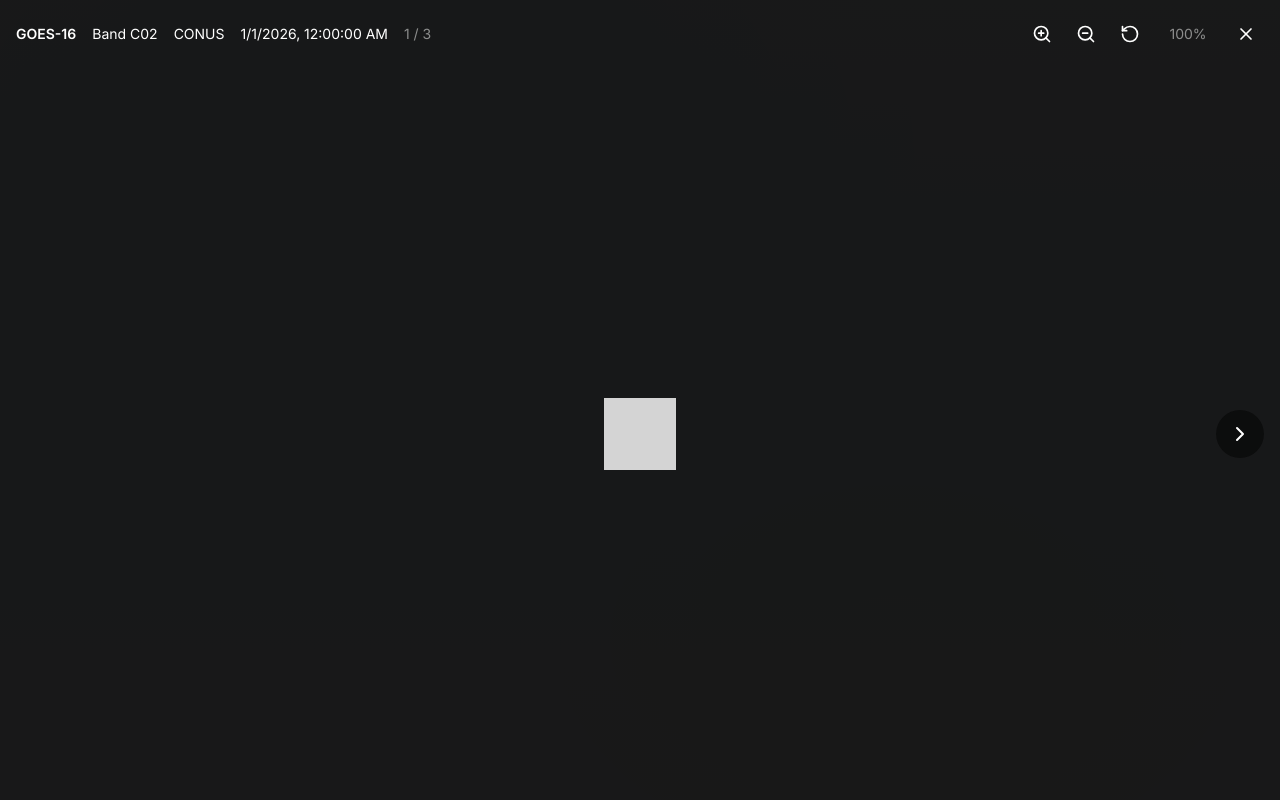
Test: ImageViewer extended › zooms out when zoom out button clicked
The width and height of the screenshot is (1280, 800).
Expected: the text "100%" is shown, [1169, 25, 1206, 42]
Click the button titled "Zoom out".
click(1086, 34)  # box [1068, 16, 1104, 52]
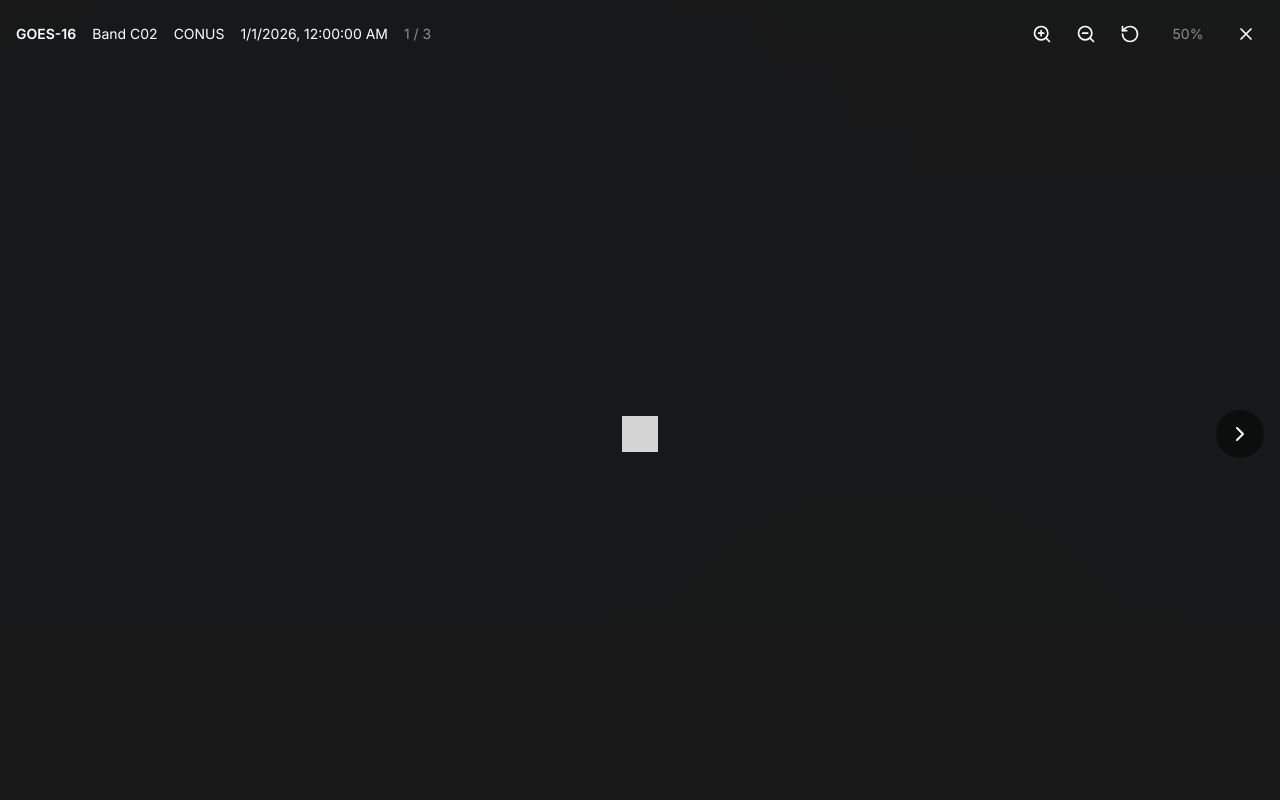
Now the text "50%" is shown, box [1172, 25, 1203, 42]
